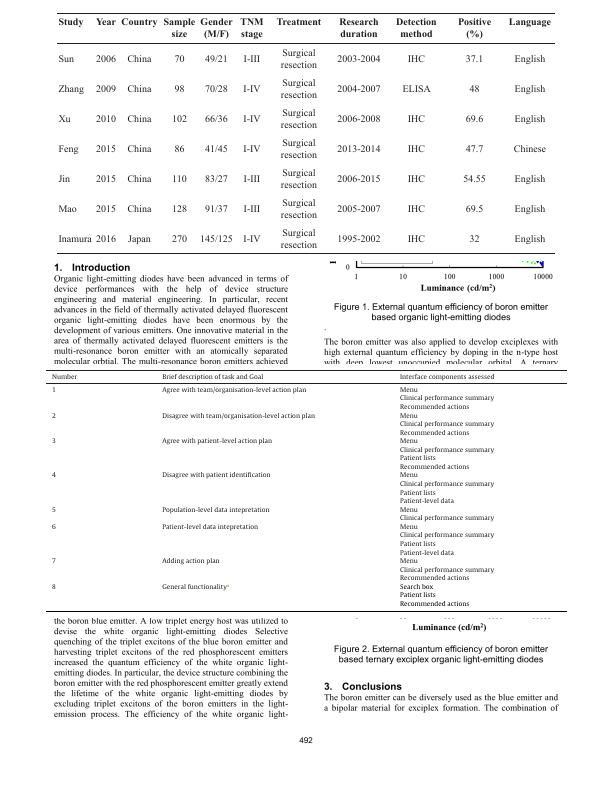borderless: (45, 369, 567, 611), (56, 12, 555, 253)
cell: (398, 438, 494, 472), (398, 472, 494, 506), (398, 524, 494, 558), (398, 412, 494, 438), (398, 387, 494, 412), (398, 558, 494, 583), (398, 584, 470, 609), (398, 506, 494, 523), (161, 412, 315, 421), (161, 387, 307, 395), (161, 472, 271, 481), (161, 506, 270, 515), (395, 18, 437, 41), (338, 18, 379, 41), (279, 78, 318, 102), (161, 373, 264, 382), (279, 49, 318, 72), (279, 108, 318, 131), (279, 138, 318, 161), (279, 168, 318, 191), (279, 198, 318, 221), (279, 228, 318, 251), (161, 438, 272, 446), (398, 373, 495, 382), (457, 18, 492, 41), (162, 18, 196, 41), (199, 18, 233, 41), (161, 524, 258, 532), (161, 583, 230, 592), (239, 18, 264, 41), (336, 84, 381, 96), (275, 18, 322, 29), (507, 18, 552, 29), (336, 55, 381, 66), (336, 114, 381, 125), (336, 144, 381, 155), (336, 174, 381, 185), (336, 204, 381, 215), (336, 234, 381, 245), (161, 558, 220, 566), (120, 18, 158, 29), (513, 84, 546, 96), (512, 144, 547, 155), (57, 234, 92, 245), (199, 234, 233, 245), (513, 55, 546, 66), (513, 114, 546, 125), (513, 174, 546, 185), (513, 204, 546, 215), (513, 234, 546, 245), (401, 84, 431, 96), (57, 84, 85, 96), (126, 84, 152, 96), (57, 18, 84, 29), (204, 84, 228, 96), (126, 55, 152, 66), (126, 114, 152, 125), (126, 144, 152, 155), (126, 174, 152, 185), (126, 204, 152, 215), (204, 55, 228, 66), (95, 84, 117, 96), (204, 114, 228, 125), (204, 144, 228, 155), (204, 174, 228, 185), (462, 174, 486, 185), (204, 204, 228, 215), (127, 234, 151, 245), (50, 373, 78, 382), (95, 18, 117, 29), (94, 55, 116, 66), (94, 114, 116, 125), (57, 144, 79, 155), (95, 144, 117, 155), (95, 174, 117, 185), (95, 204, 117, 215), (95, 234, 117, 245), (242, 84, 261, 96), (406, 55, 426, 66), (464, 55, 484, 66), (406, 114, 426, 125), (464, 114, 484, 125), (406, 144, 426, 155), (464, 144, 484, 155), (406, 174, 426, 185), (57, 204, 77, 215), (406, 204, 426, 215), (464, 204, 484, 215), (406, 234, 426, 245), (242, 55, 261, 66), (242, 114, 261, 125), (242, 144, 261, 155), (242, 174, 261, 185), (242, 204, 261, 215), (242, 234, 261, 245), (57, 55, 75, 66), (171, 114, 188, 125), (171, 204, 188, 215), (171, 234, 188, 245), (171, 174, 187, 185), (57, 114, 71, 125), (57, 174, 71, 185), (173, 84, 185, 96), (468, 84, 480, 96), (173, 55, 185, 66), (173, 144, 185, 155), (468, 234, 480, 245), (50, 412, 56, 421), (50, 472, 56, 481), (50, 506, 56, 515), (50, 387, 56, 395), (50, 438, 56, 446), (50, 524, 56, 532), (50, 558, 56, 566), (50, 584, 56, 592)
